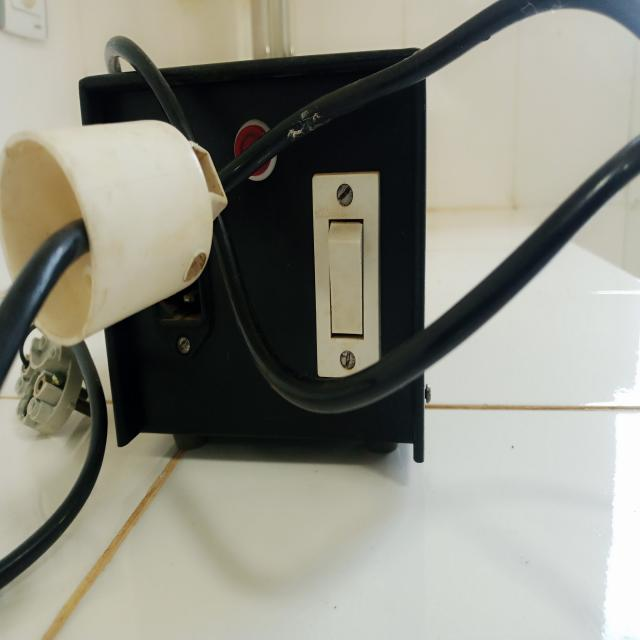Sodium Lamp Power Supply: (76, 26, 442, 486)
